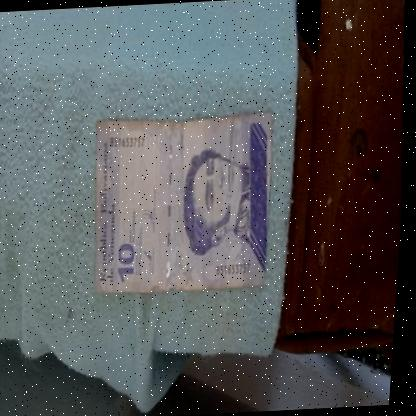ten-front-vef: (87, 110, 283, 294)
